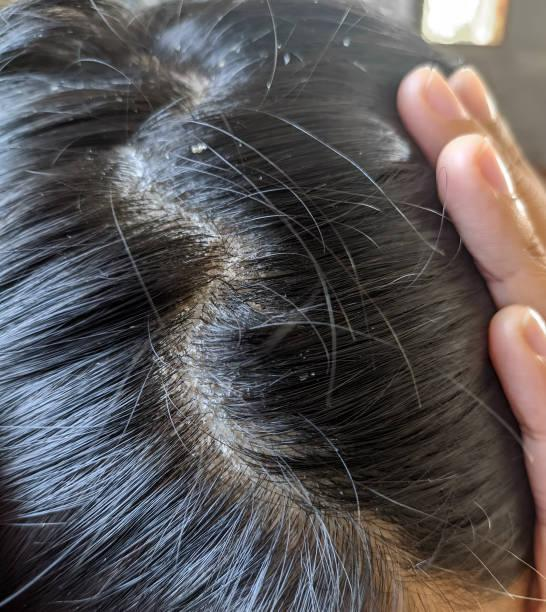dandruff: (110, 202, 142, 239), (180, 131, 217, 163), (243, 266, 283, 289), (276, 42, 304, 74), (289, 362, 316, 389), (169, 303, 197, 326), (74, 142, 97, 165), (335, 481, 352, 503), (336, 37, 355, 56), (249, 173, 268, 186)
